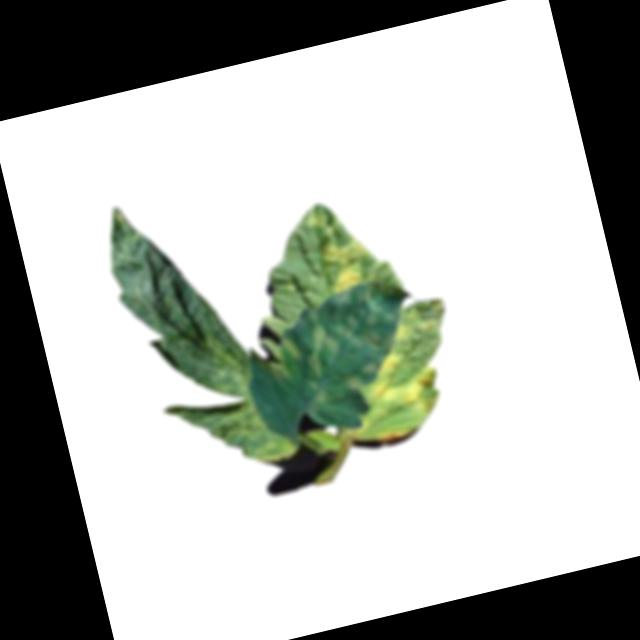Leaf_Mold: (286, 274, 427, 401), (357, 339, 447, 428), (309, 210, 375, 293), (371, 418, 415, 446)
